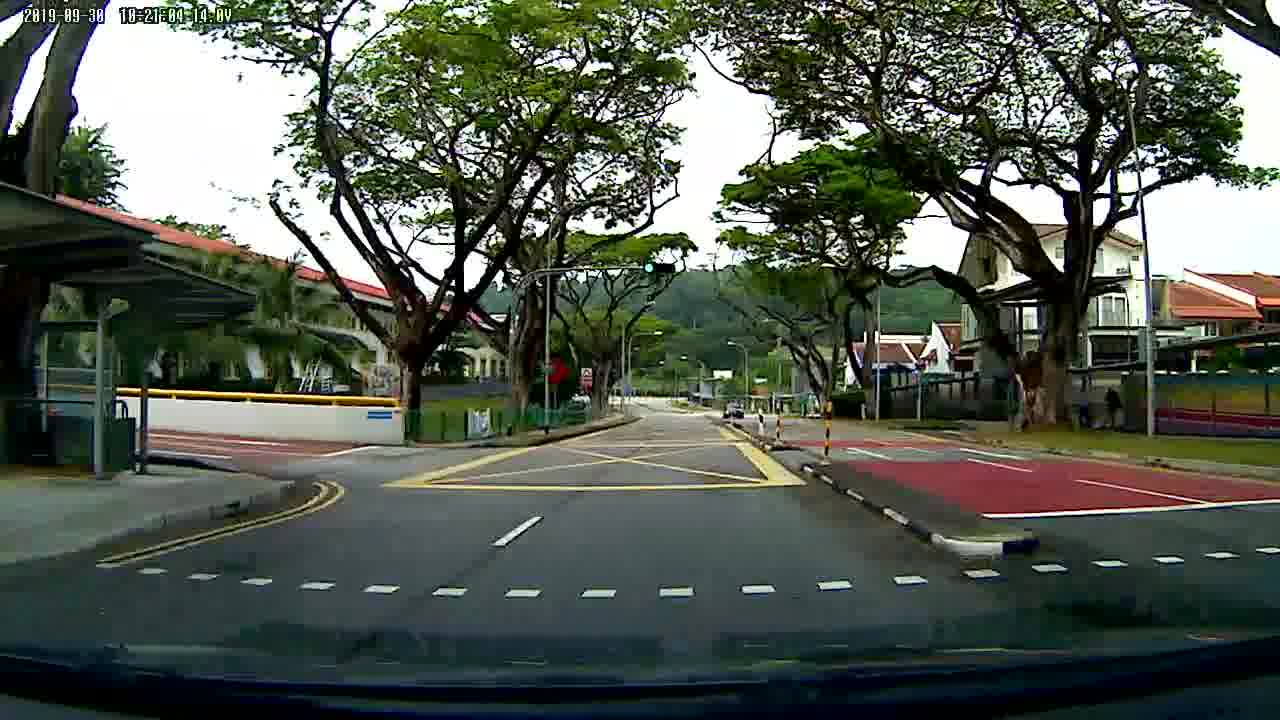car: (721, 400, 748, 420)
